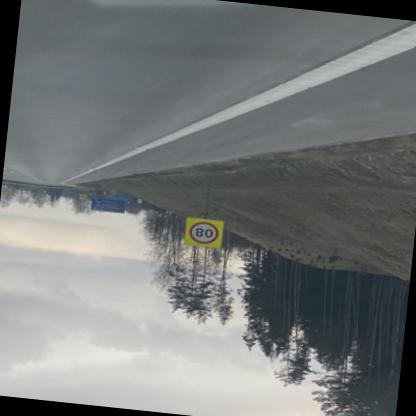speedlimit: (185, 220, 218, 246)
